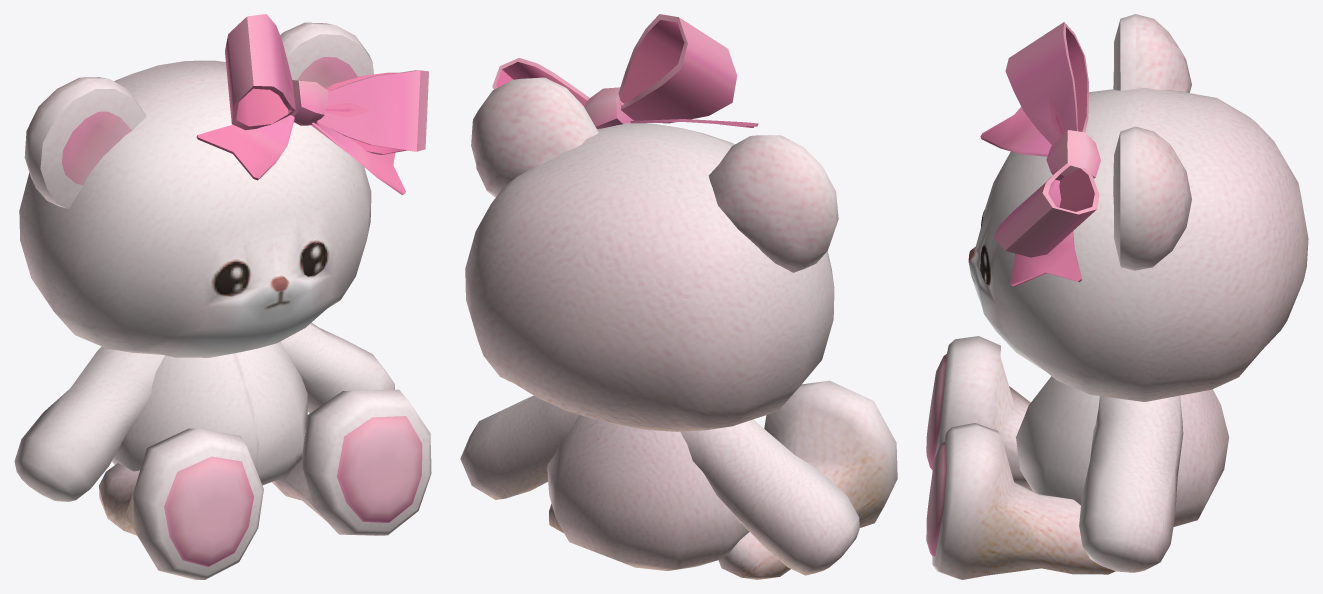
File: Doll_AT_Play_002.FBX
3 views of the same model, side by side, from view 1: azimuth 30°, elevation 25°; view 2: azimuth 150°, elevation 25°; view 3: azimuth 270°, elevation 25° (orthographic). The views are drawn at different scales.
Parts seen in each view (by area): view 1: Doll_AT_Play_002; view 2: Doll_AT_Play_002; view 3: Doll_AT_Play_002.
Boxes of the visible parts, <box> form: Doll_AT_Play_002: <box>14,14,431,579</box>; Doll_AT_Play_002: <box>460,14,897,579</box>; Doll_AT_Play_002: <box>926,14,1308,579</box>.
Size of the model in its own units: 3.83 by 4.94 by 3.3.
